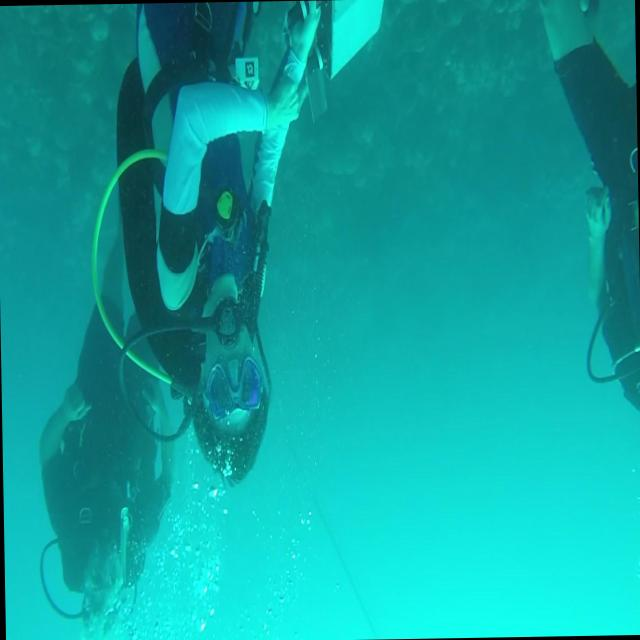human: (112, 0, 334, 489), (33, 225, 178, 640), (537, 0, 640, 511)
